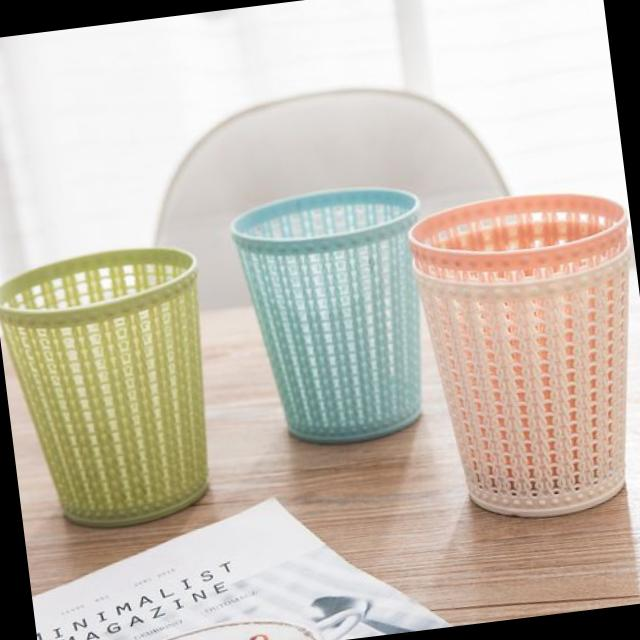dustbin: (399, 178, 640, 534), (0, 234, 232, 542), (222, 172, 456, 460)
